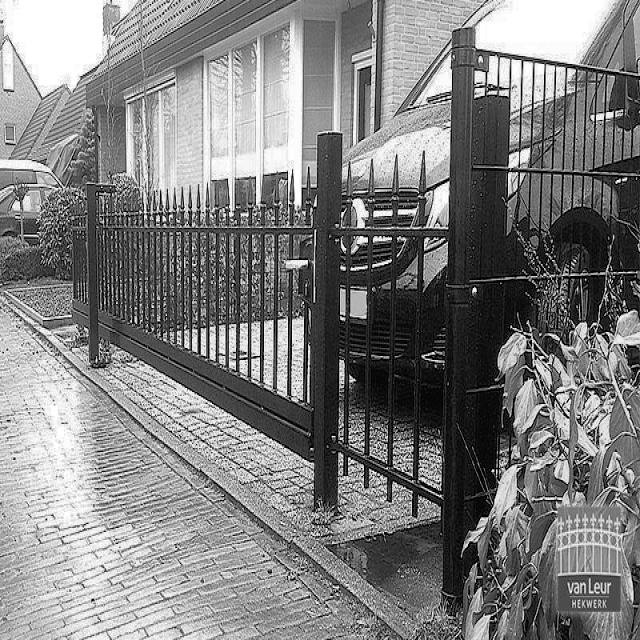fences: (73, 167, 448, 500), (463, 55, 640, 365)
